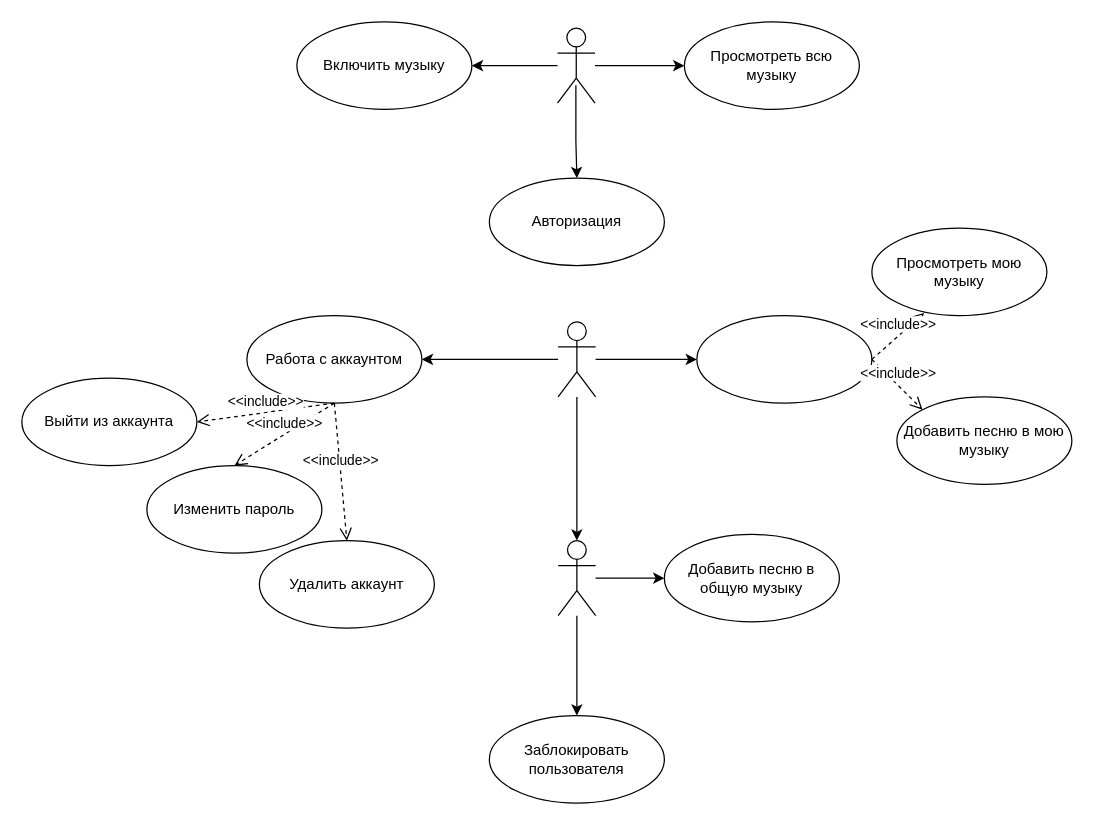
Some shapes in this 1094 by 825 pixel diagram are drawn without their labels. Here are the shapes that lost their labels. From the top down, the centre of each, then its label:
the point at 575,65: Гость
the point at 576,359: Пользователь
the point at 784,358: Работа с моей музыкой
the point at 576,577: Администратор
